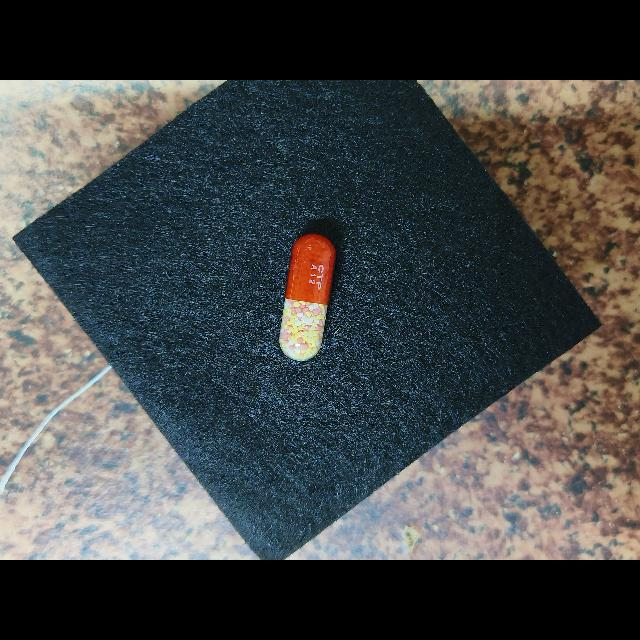Intact Capsule: (279, 233, 336, 361)
